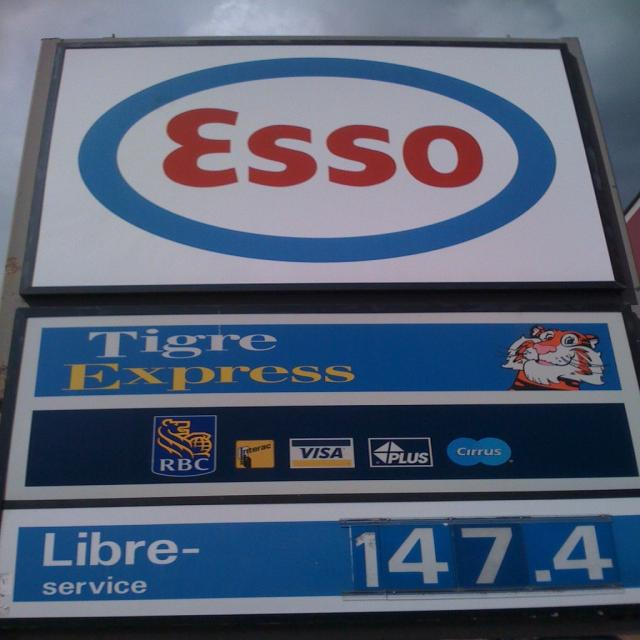esso: (71, 53, 572, 270)
